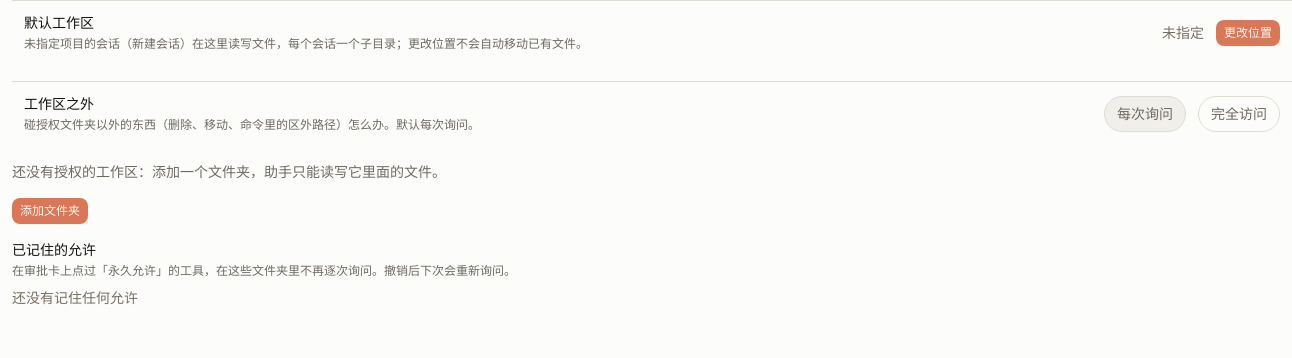
Scenario: 工作区组 · 默认工作区（T18） › 指认失败（选到不可用的路径）：行内报原因，指认保持原样
Step 1. Click the button with test id "default-workspace-change" → point(1248, 33), box [1216,20,1280,46]
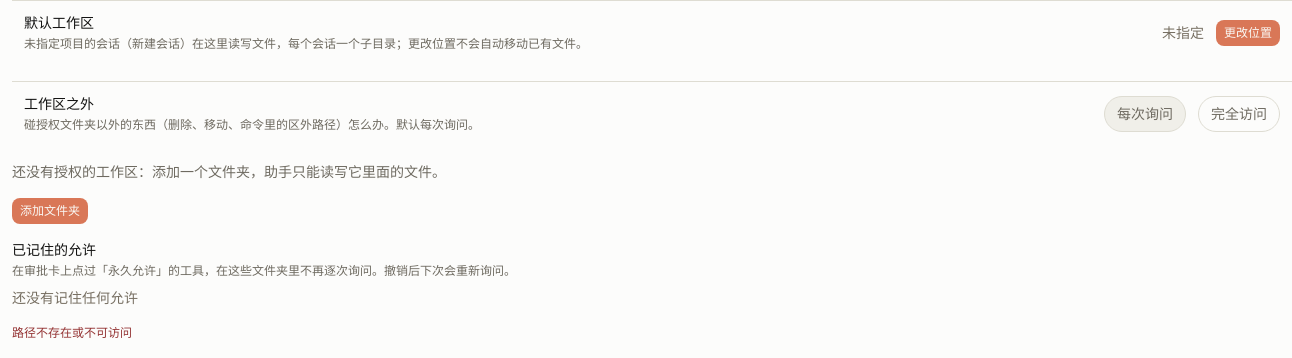
Expected: the text with test id "default-workspace-path" reads "未指定", [1162,23,1204,42]
Expected: the text with test id "workspace-error" reads "路径不存在或不可访问", [12,324,132,341]
